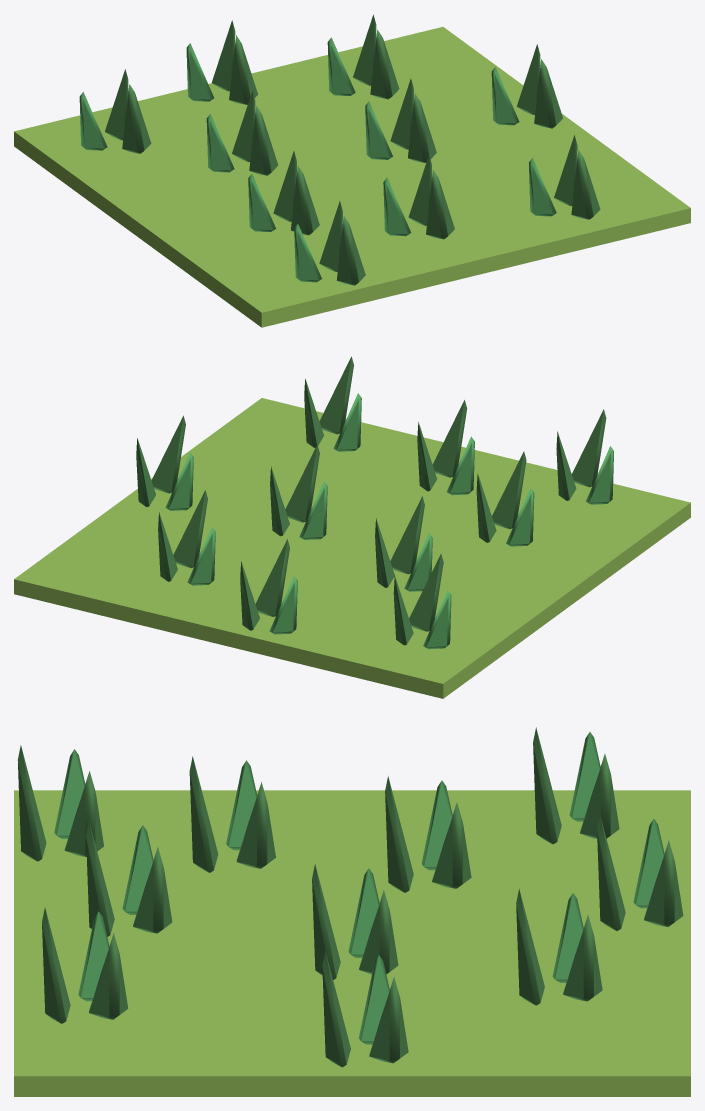
File: grass2.fbx
3 renders of one model, top to bottom at view 1: azimuth 30°, elevation 25°; view 2: azimuth 150°, elevation 25°; view 3: azimuth 270°, elevation 25°, orthographic. The views are drawn at different scales.
Visible parts, largest first — view 1: Cube.002, Cone.001; view 2: Cube.002, Cone.001; view 3: Cube.002, Cone.001.
Boxes of the visible parts, bbox=[...] form: Cube.002: bbox=[14, 27, 690, 327]; Cone.001: bbox=[79, 14, 600, 285]; Cube.002: bbox=[14, 398, 690, 698]; Cone.001: bbox=[136, 356, 613, 649]; Cube.002: bbox=[14, 790, 690, 1096]; Cone.001: bbox=[17, 727, 683, 1067].
Bounding box in the file's own units: 300 × 60.06 × 300.
